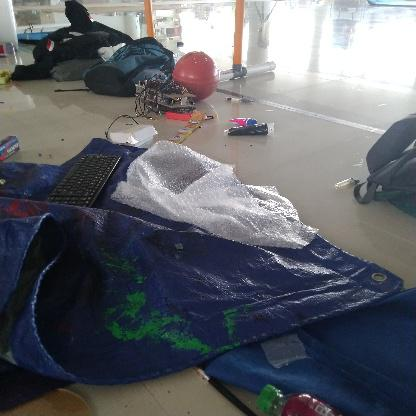red_buoy: (172, 48, 220, 102)
